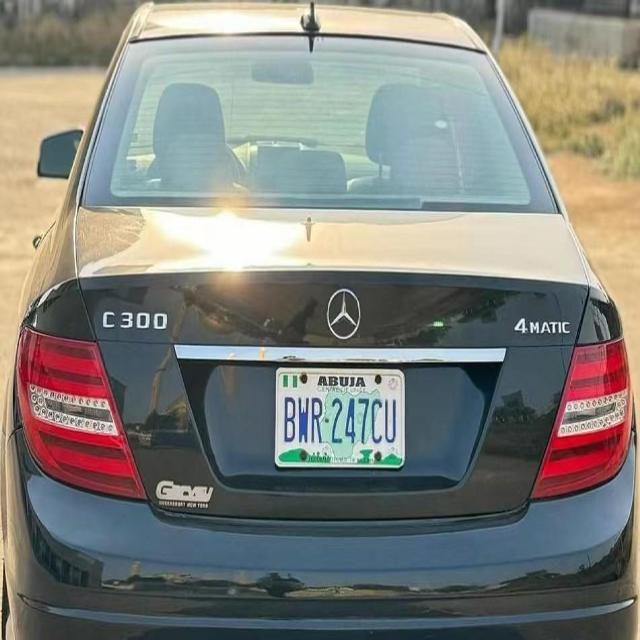Nigerian License Plate - vdataset benjamin-daria: (272, 364, 408, 474)
